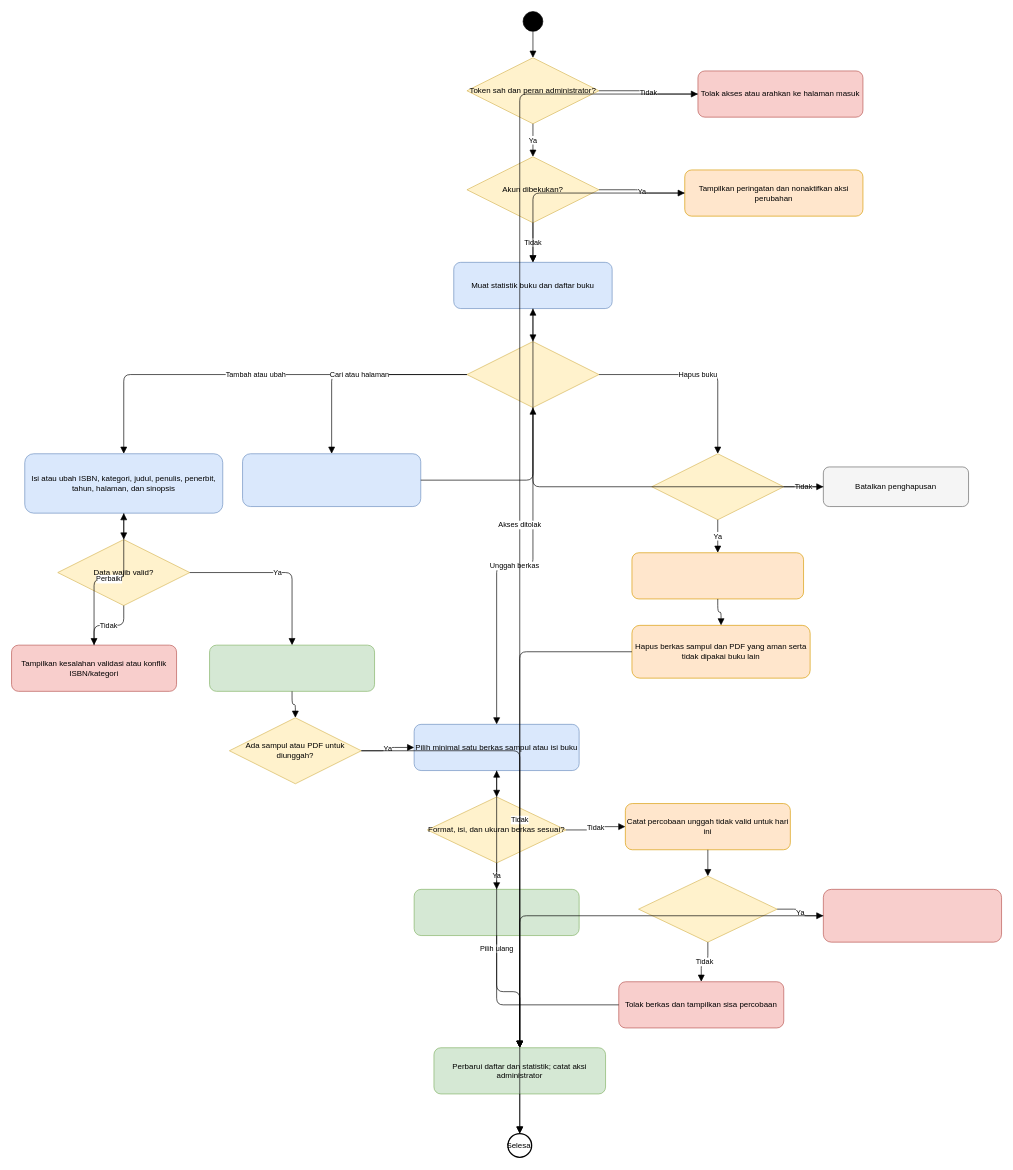
This 1013x1170 diagram has some shape labels left out. Each missing label, with the box of its shape:
Bekukan akun dan nonaktifkan aksi unggah serta perubahan: (823, 889, 1002, 942)
Buat buku baru atau simpan perubahan buku: (209, 644, 375, 691)
Cari judul atau ISBN; pindah halaman; lihat detail status berkas: (242, 453, 421, 507)
Hapus buku dan relasi dari basis data terlebih dahulu: (631, 552, 804, 599)
Konfirmasi penghapusan buku?: (651, 453, 784, 520)
Pilih aksi pada buku: (466, 341, 599, 408)
Simpan berkas dengan nama acak dan catat lokasinya: (413, 889, 579, 936)
Sudah mencapai empat percobaan gagal?: (638, 875, 777, 942)
